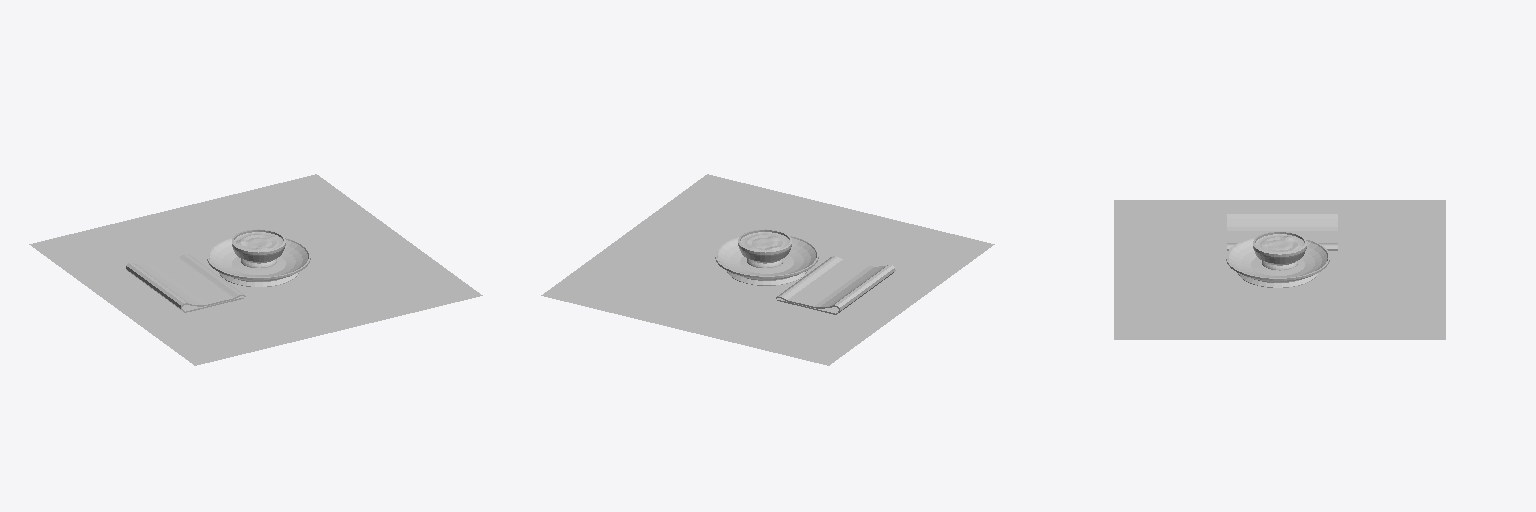
The model's file is blenderPlate.obj.
3 views of the same model, side by side, from view 1: azimuth 30°, elevation 25°; view 2: azimuth 150°, elevation 25°; view 3: azimuth 270°, elevation 25° (orthographic).
Parts seen in each view (by area): view 1: table_top_Plane, napkin_Cube, plate_Cylinder.001, bowl_Cylinder.002; view 2: table_top_Plane, napkin_Cube, plate_Cylinder.001, bowl_Cylinder.002; view 3: table_top_Plane, napkin_Cube, plate_Cylinder.001, bowl_Cylinder.002.
Boxes of the visible parts, <box> form: table_top_Plane: <box>29,174,482,365</box>; napkin_Cube: <box>126,254,245,312</box>; plate_Cylinder.001: <box>207,237,310,286</box>; bowl_Cylinder.002: <box>232,229,285,267</box>; table_top_Plane: <box>541,174,994,365</box>; napkin_Cube: <box>776,256,895,314</box>; plate_Cylinder.001: <box>715,235,818,285</box>; bowl_Cylinder.002: <box>738,229,791,267</box>; table_top_Plane: <box>1114,200,1445,339</box>; napkin_Cube: <box>1227,213,1337,250</box>; plate_Cylinder.001: <box>1226,237,1329,287</box>; bowl_Cylinder.002: <box>1253,232,1306,270</box>.
Bounding box in the file's own units: 6 × 0.5827 × 6.